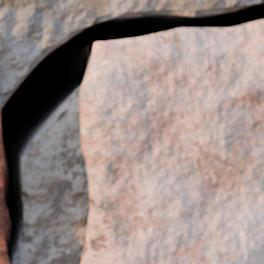brick: (80, 20, 263, 263), (0, 131, 8, 263)
crack: (0, 0, 263, 263)
